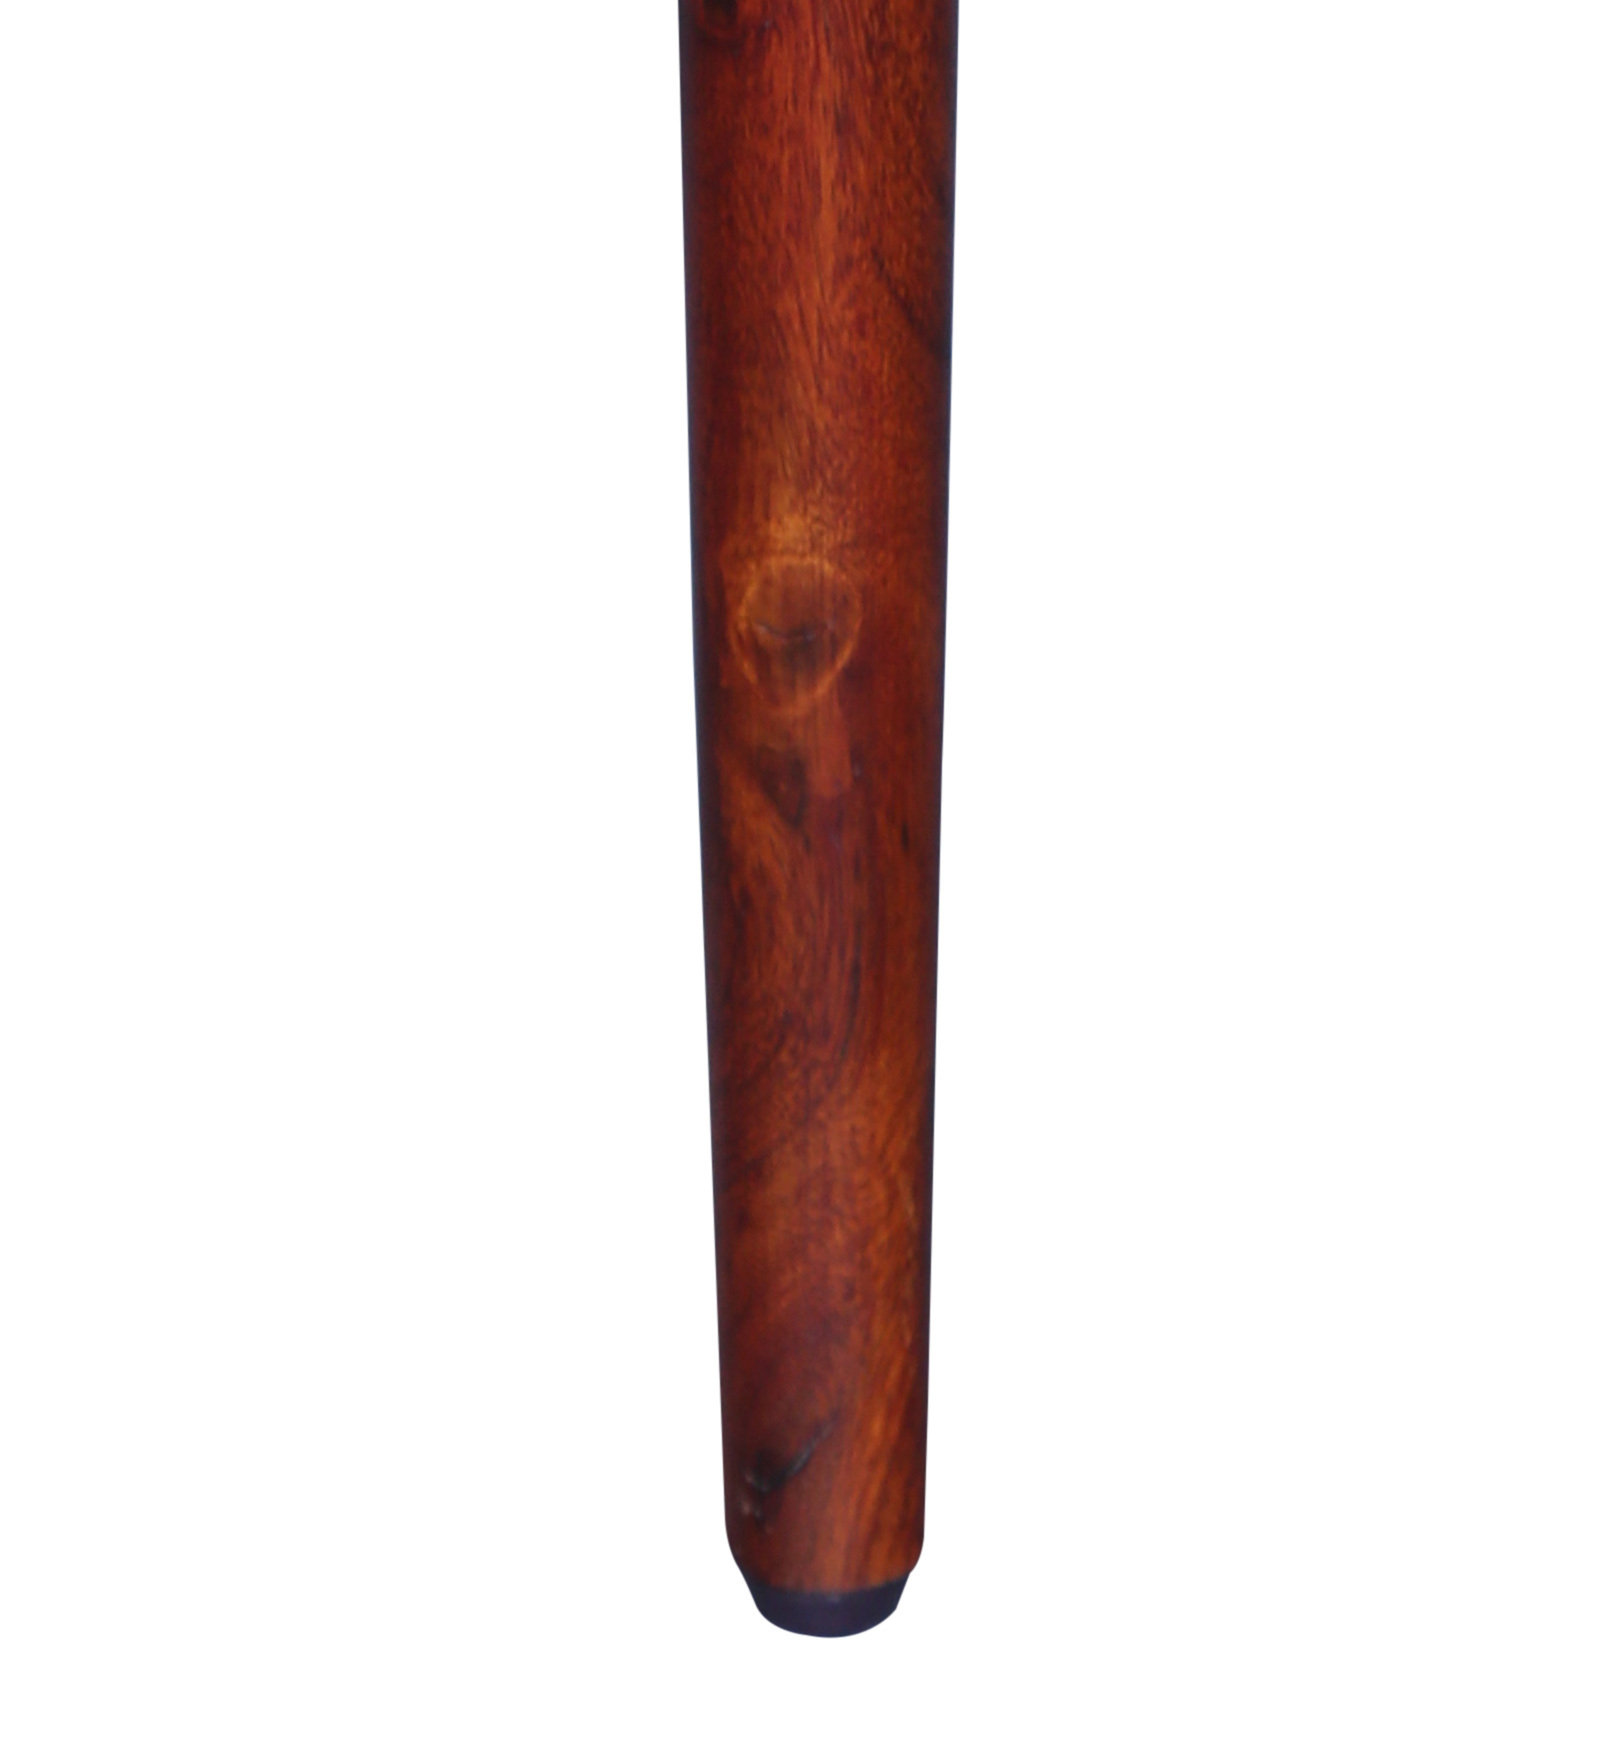Esvelt Arm Chair in Honey Oak Finish by Woodsworth: (566, 2, 1074, 1696)
